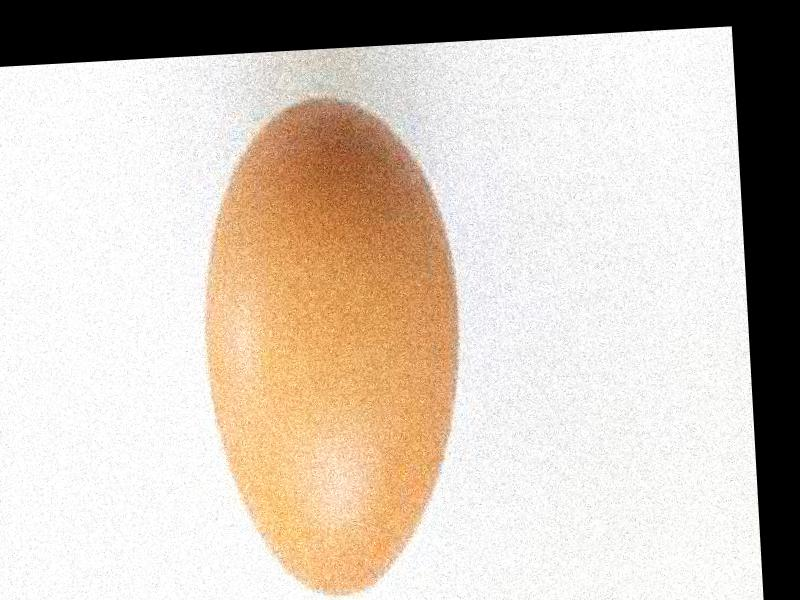Eggs: (195, 94, 473, 600)
